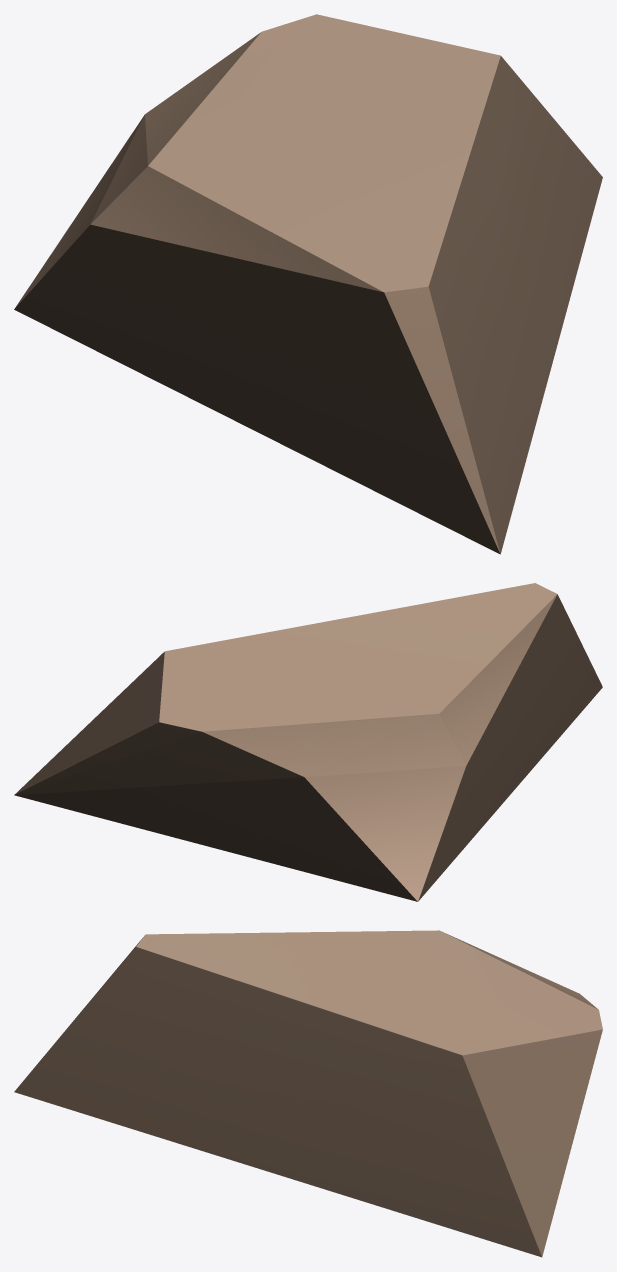
The model's file is Rock_Small_1D.fbx.
The picture shows the model from 3 angles, top to bottom: view 1: azimuth 30°, elevation 25°; view 2: azimuth 150°, elevation 25°; view 3: azimuth 270°, elevation 25°; orthographic projection. The views are drawn at different scales.
Visible parts, largest first — view 1: Rock_Small_1D; view 2: Rock_Small_1D; view 3: Rock_Small_1D.
Part boxes in pixels (x1,y1,x2,y2): Rock_Small_1D: (14,14,602,554); Rock_Small_1D: (14,583,602,901); Rock_Small_1D: (14,930,602,1257).
Size of the model in its own units: 0.9421 by 0.3184 by 1.14.
